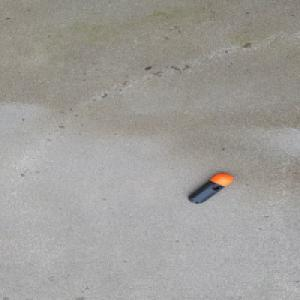PlasticPart: (187, 172, 235, 204)
